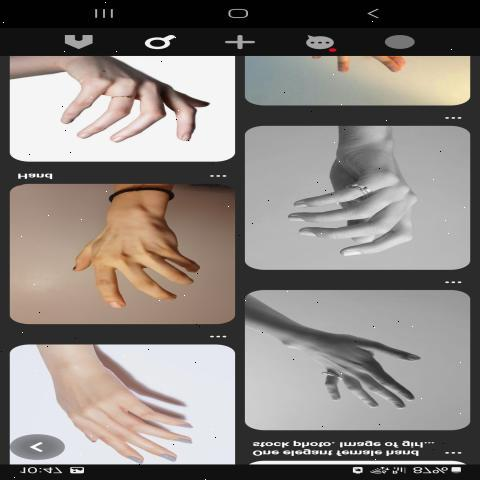Hands: (58, 193, 226, 323), (276, 136, 440, 264), (46, 356, 206, 462), (42, 68, 222, 154), (283, 317, 426, 421)
